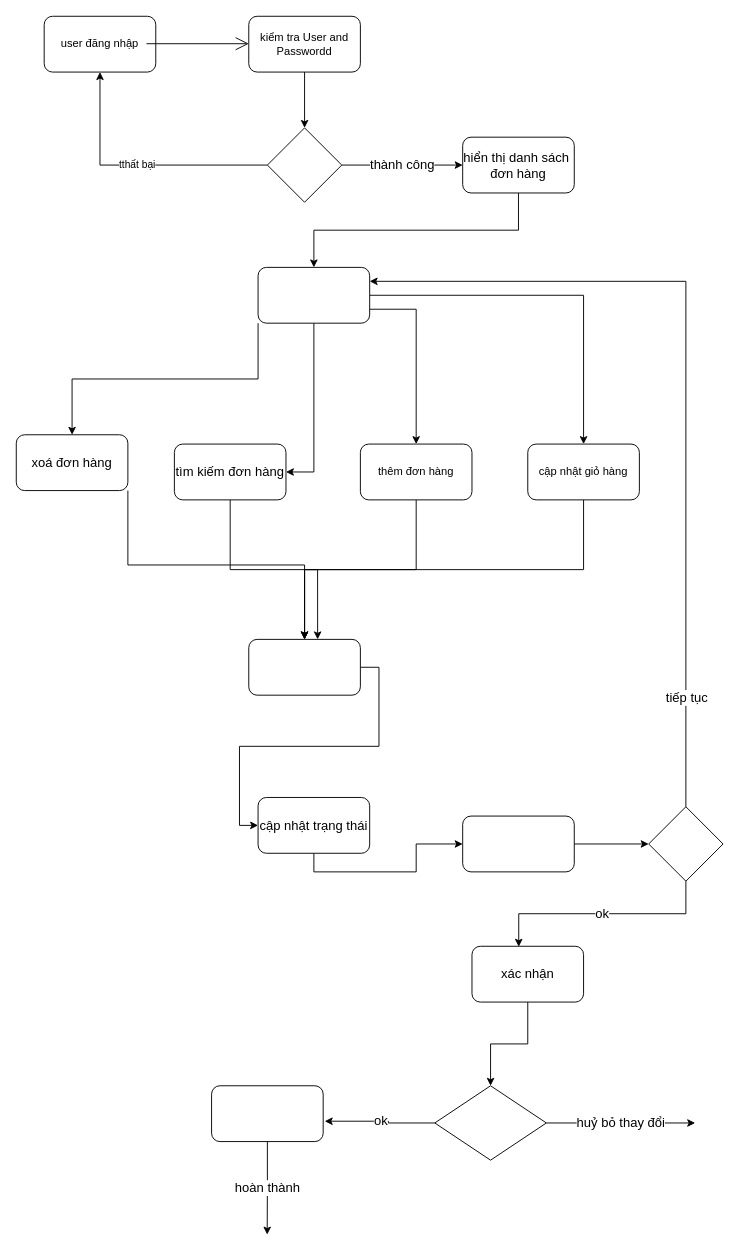
The diagram is 739 pixels wide and 1258 high, and some of its shapes have lost their labels. The centre of each missing label's shape, as x and y in pixels:
"cập nhật danh sách đơn hàng" goes at [518,843].
"lựa chọn chức năng" goes at [313,294].
"nhập thông tin đơn hàng" goes at [304,666].
"thông báo thành công" goes at [267,1113].
